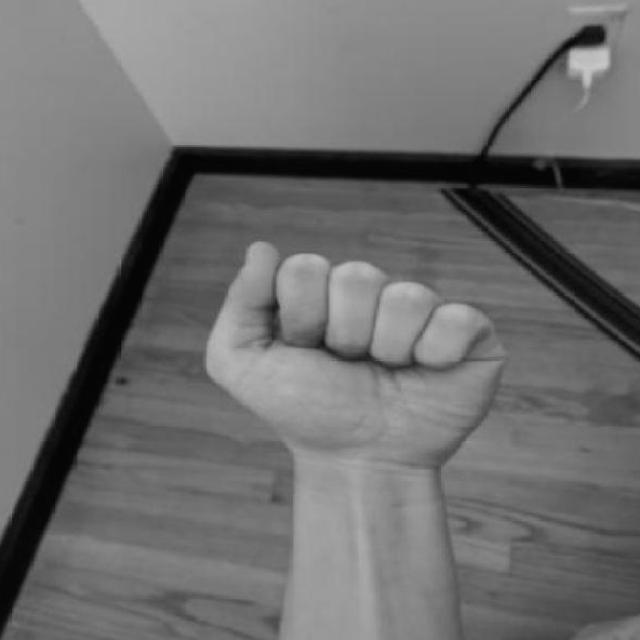A: (196, 222, 513, 530)
